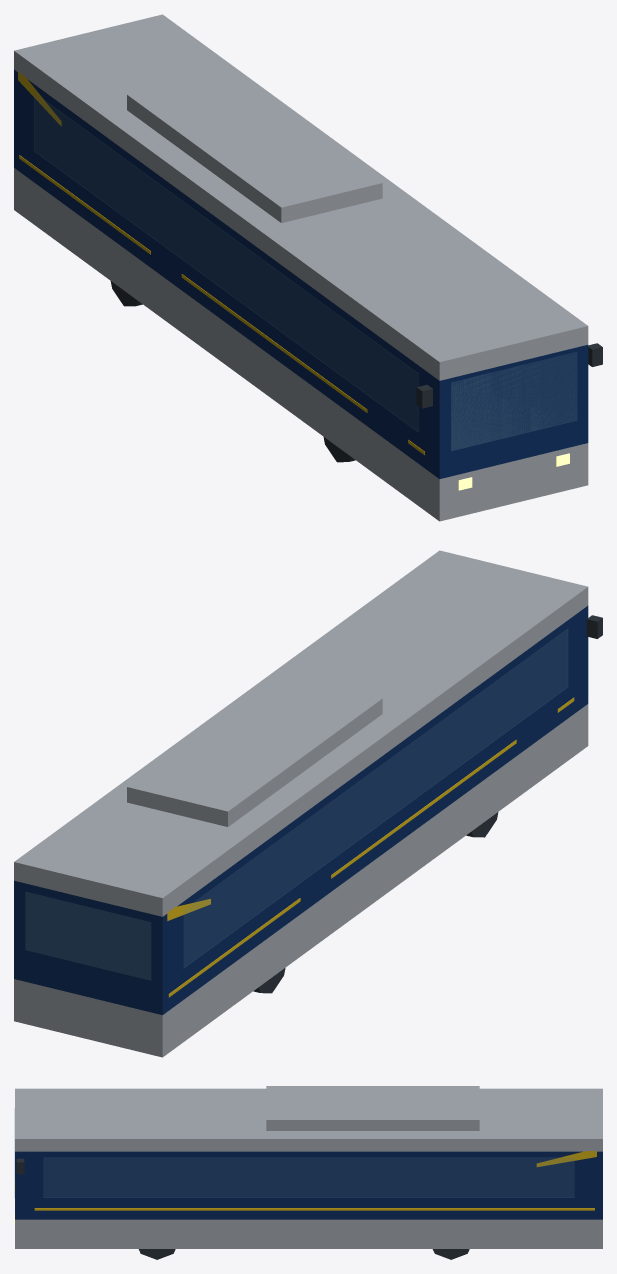
Rendered from city-bus-12m-exterior.lod2.glb.
3 views of the same model, one above another, from view 1: azimuth 30°, elevation 25°; view 2: azimuth 150°, elevation 25°; view 3: azimuth 270°, elevation 25° (orthographic). The views are drawn at different scales.
Visible parts, largest first — view 1: body-shell, glass, body-trim; view 2: body-shell, glass; view 3: body-shell, glass, wheel-rear-left-tyre, wheel-front-left-tyre.
Part boxes in pixels (x1,y1,x2,y2): body-shell: (14, 14, 588, 521); glass: (34, 93, 576, 450); body-trim: (416, 343, 602, 408); body-shell: (14, 550, 588, 1057); glass: (25, 629, 567, 980); body-shell: (15, 1086, 602, 1248); glass: (14, 1108, 574, 1197); wheel-rear-left-tyre: (432, 1249, 469, 1259); wheel-front-left-tyre: (138, 1249, 175, 1259).
Bounding box in the file's own units: 3.04 × 3.07 × 12.42.
